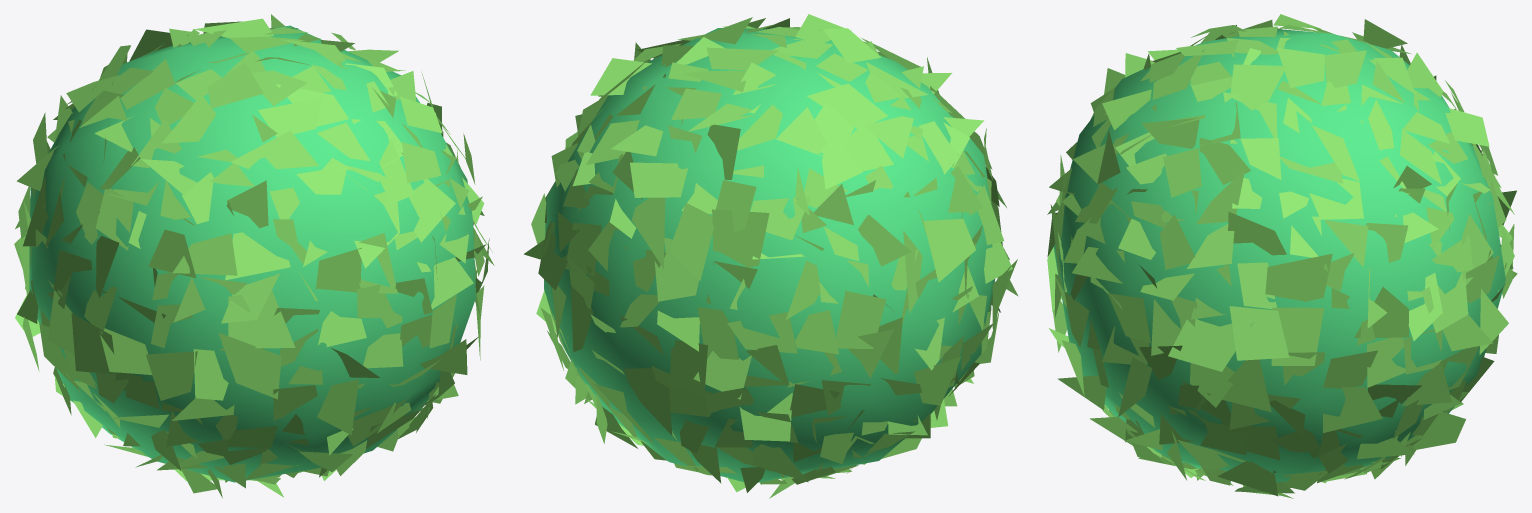
File: semak low poly1.fbx
The picture shows the model from 3 angles, left to right: view 1: azimuth 30°, elevation 25°; view 2: azimuth 150°, elevation 25°; view 3: azimuth 270°, elevation 25°; orthographic projection.
Parts seen in each view (by area): view 1: Cube; view 2: Cube; view 3: Cube.
Part boxes in pixels (x1,y1,x2,y2): Cube: (14,14,494,497); Cube: (524,14,1018,498); Cube: (1047,14,1517,498).
Size of the model in its own units: 129 by 126 by 124.
